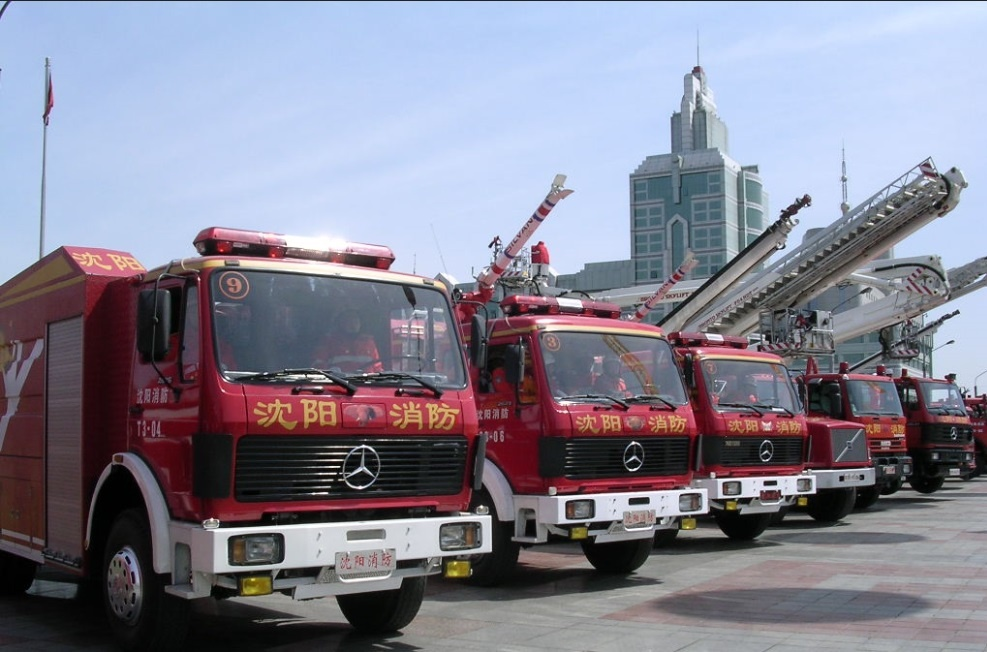fire engine: (21, 262, 492, 629), (475, 285, 709, 561), (674, 327, 830, 529)
